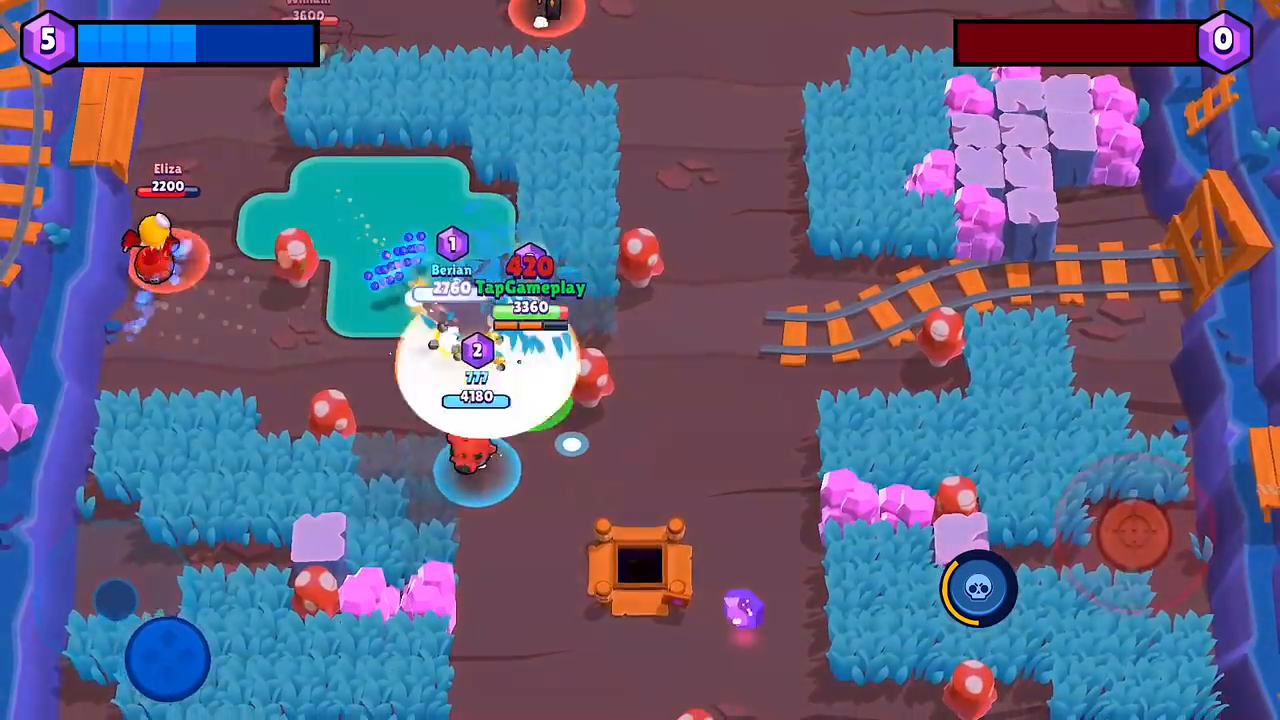move_stick: (130, 621, 212, 694)
red: (113, 171, 223, 294), (273, 1, 344, 118), (508, 1, 589, 55)
